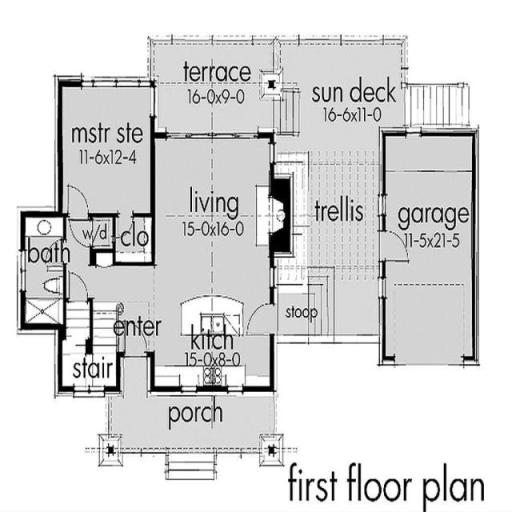bathroom: (29, 217, 74, 325)
garage: (393, 134, 474, 349)
hall: (156, 133, 275, 324)
kitchen: (157, 332, 271, 392)
porch: (112, 390, 280, 454)
